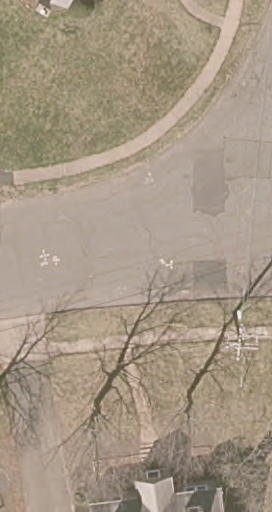DT: (225, 308, 258, 360)
